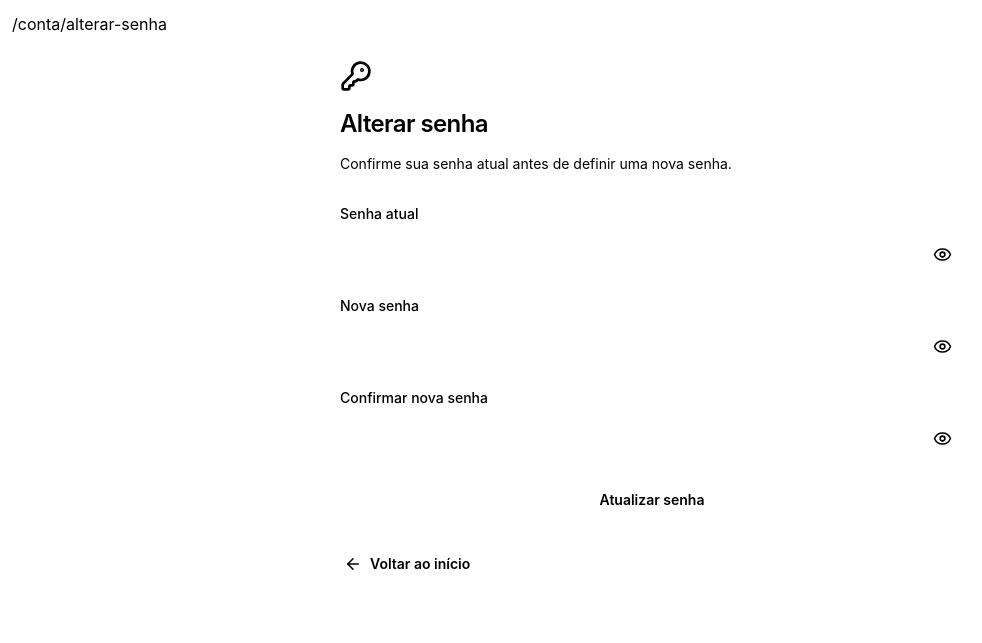
UpdatePasswordPage › rejeita confirmação divergente e senha nova igual à atual
This screenshot has width=982, height=643.
Type "senha-igual" into the password field labelled "Senha atual". click: (652, 254)
box: [340, 232, 964, 276]
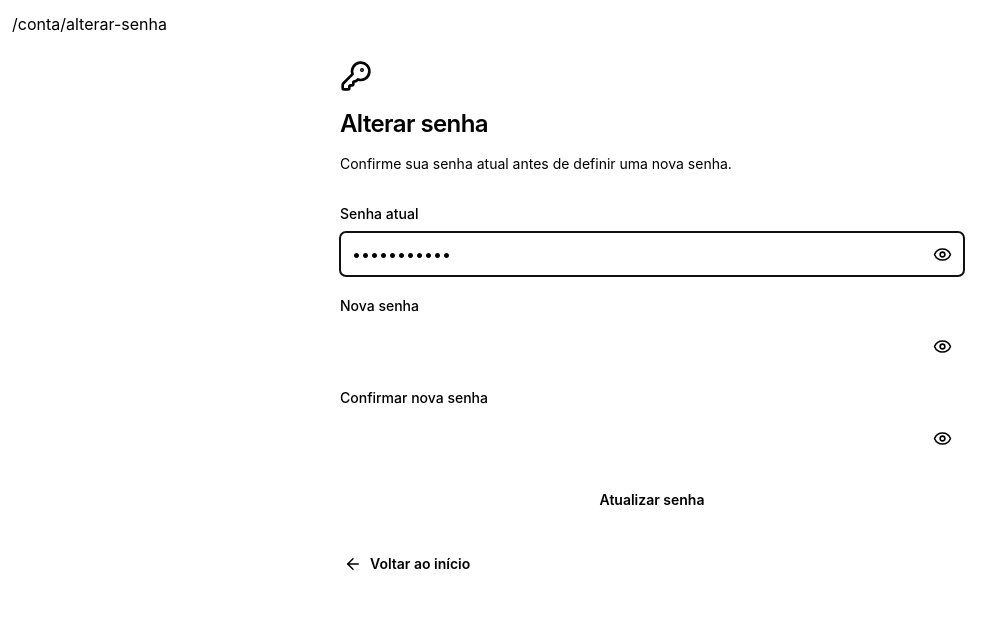
Type "senha-igual" into the password field labelled "Nova senha". click: (652, 346)
box: [340, 324, 964, 368]
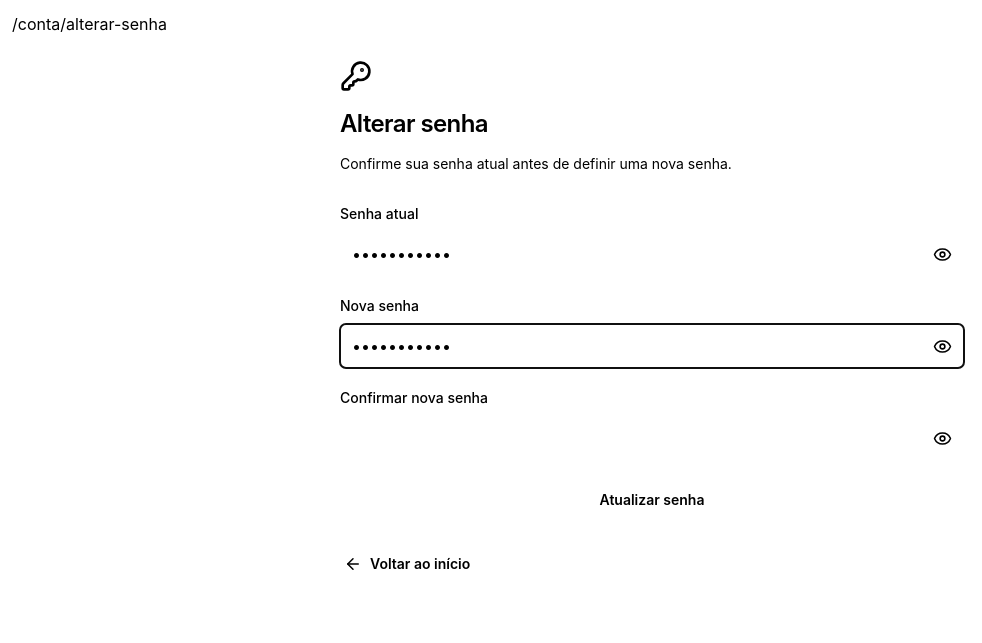
Type "diferente" into the password field labelled "Confirmar nova senha". click: (652, 438)
box: [340, 416, 964, 460]
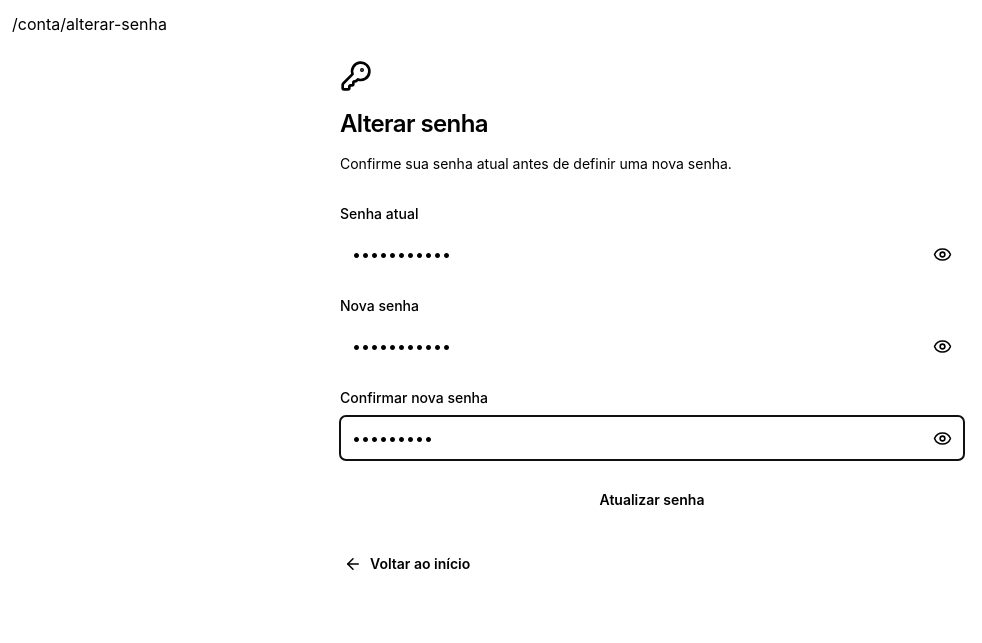
Click the button "Atualizar senha". click: (652, 500)
box: [340, 480, 964, 520]
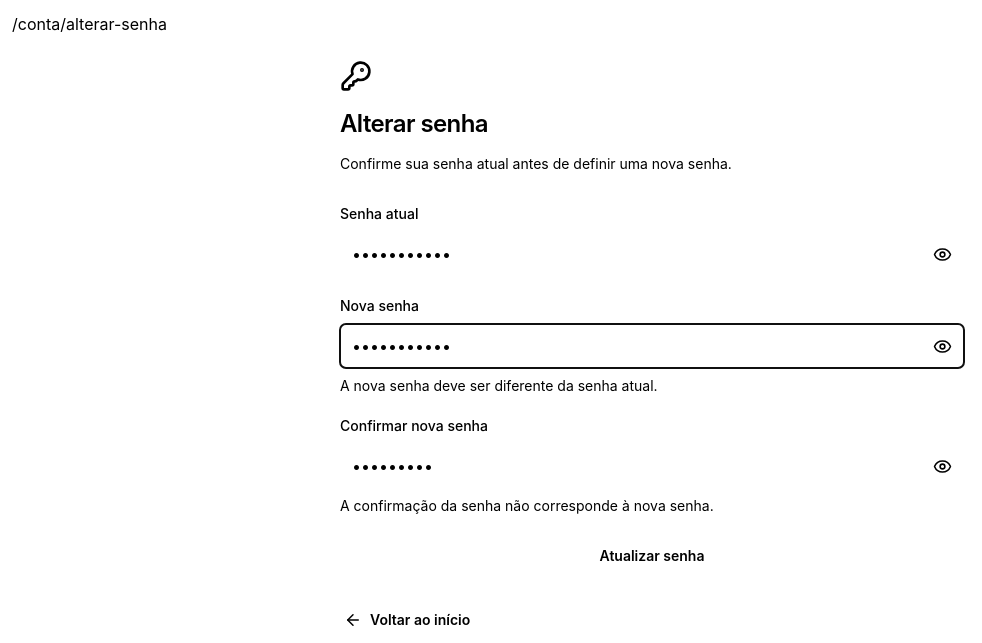
Expected: the text "A nova senha deve ser diferente da senha atual." is shown, [340, 377, 658, 394]
Expected: the text "A confirmação da senha não corresponde à nova senha." is shown, [340, 497, 714, 514]
